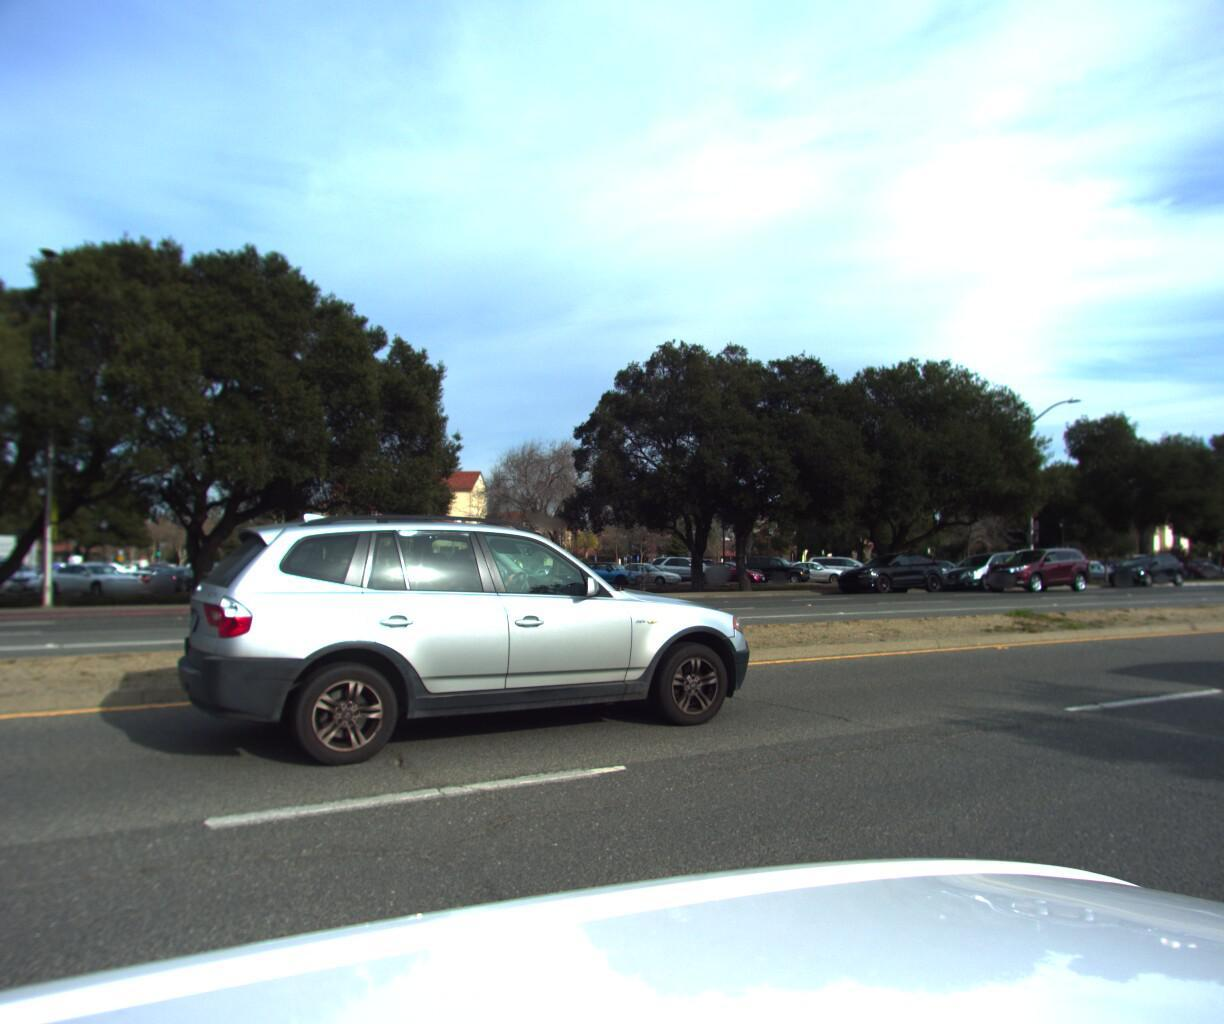car: (180, 500, 776, 791), (827, 548, 953, 593), (975, 545, 1096, 591), (931, 544, 1049, 590), (1095, 547, 1189, 583), (1222, 547, 1224, 583)
